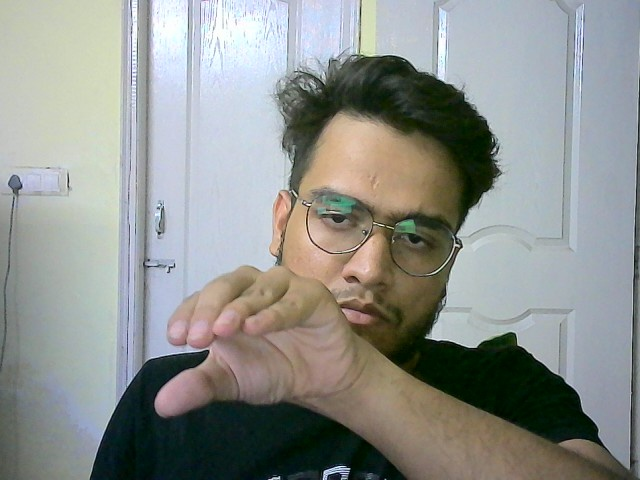No: (154, 260, 367, 425)
